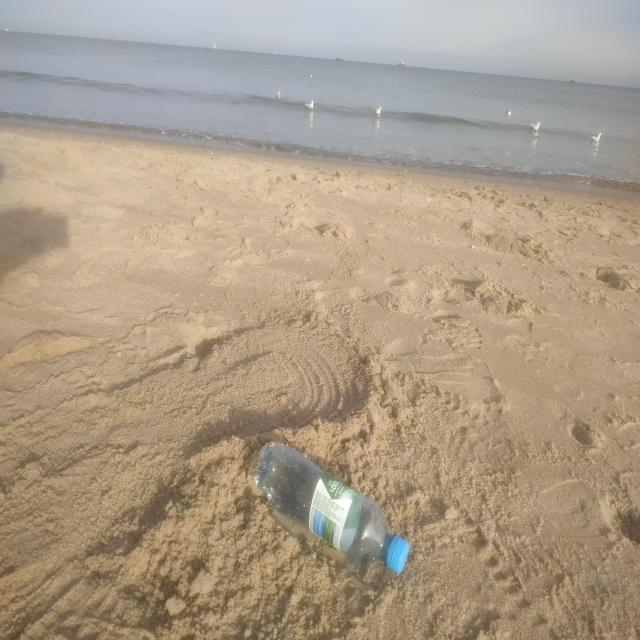litter: (251, 443, 408, 574)
